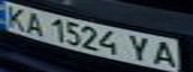1: (42, 16, 66, 43)
2: (78, 24, 100, 53)
4: (100, 27, 124, 57)
5: (60, 19, 81, 47)
A: (148, 38, 181, 69), (21, 10, 48, 37)
K: (0, 3, 30, 30)
Y: (124, 33, 154, 63)
